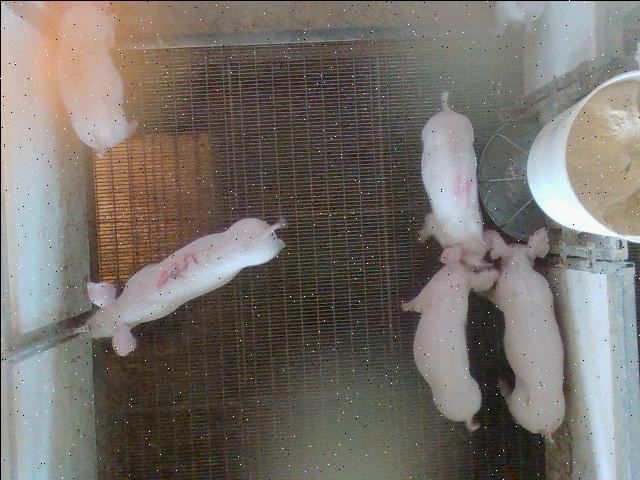pig-1: (58, 2, 135, 154)
pig-3: (86, 218, 284, 355)
pig-4: (420, 92, 511, 264)
